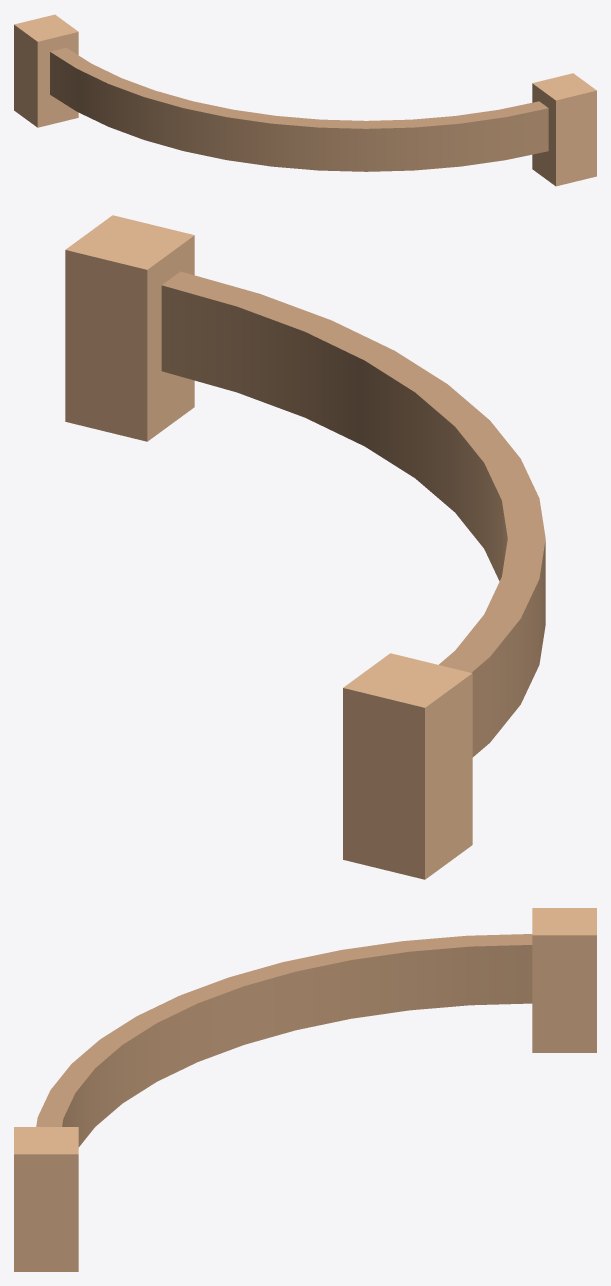
3 views of the same model, one above another, from view 1: azimuth 30°, elevation 25°; view 2: azimuth 150°, elevation 25°; view 3: azimuth 270°, elevation 25° (orthographic). The views are drawn at different scales.
Parts seen in each view (by area): view 1: fenceLowCornerCurved; view 2: fenceLowCornerCurved; view 3: fenceLowCornerCurved.
Part boxes in pixels (x1,y1,x2,y2): fenceLowCornerCurved: (14, 14, 596, 186); fenceLowCornerCurved: (65, 215, 545, 879); fenceLowCornerCurved: (14, 908, 596, 1271).
Bounding box in the file's own units: 0.9 × 0.2 × 0.9.
